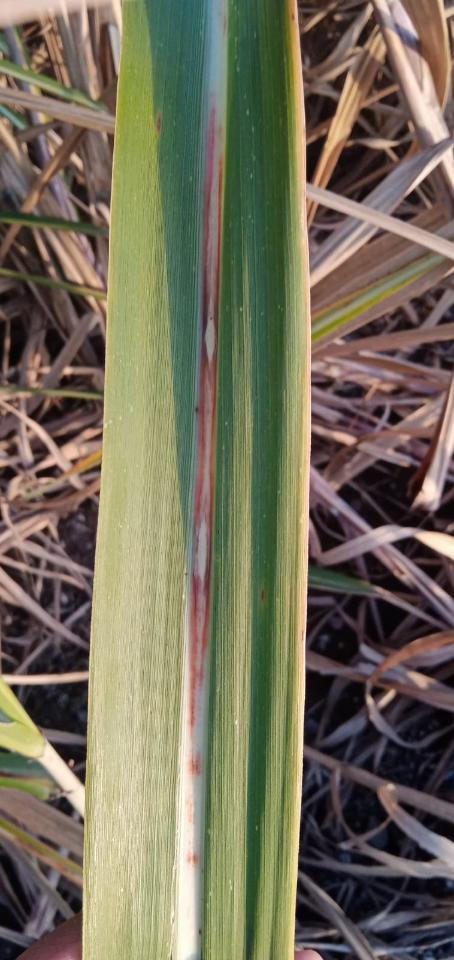RedRot: (190, 104, 222, 778), (156, 114, 162, 136), (261, 587, 265, 603)
